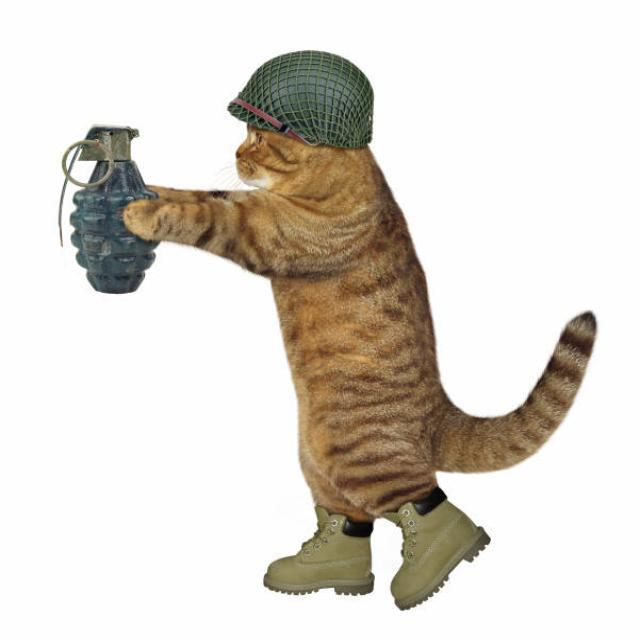grenade: (52, 119, 167, 298)
